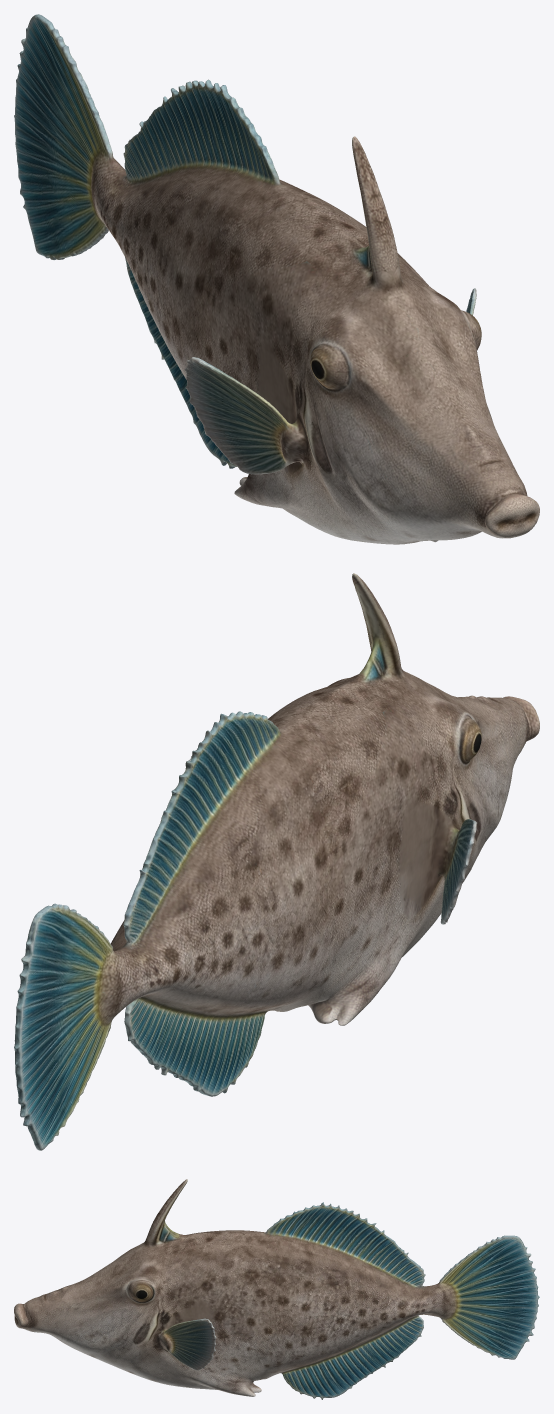
File: umazurahagi-3fa72ced5baf.glb
The picture shows the model from 3 angles, top to bottom: view 1: azimuth 30°, elevation 25°; view 2: azimuth 150°, elevation 25°; view 3: azimuth 270°, elevation 25°; orthographic projection. The views are drawn at different scales.
Bounding box in the file's own units: 0.6249 × 0.8776 × 1.9.
1 material, 1 textured.
